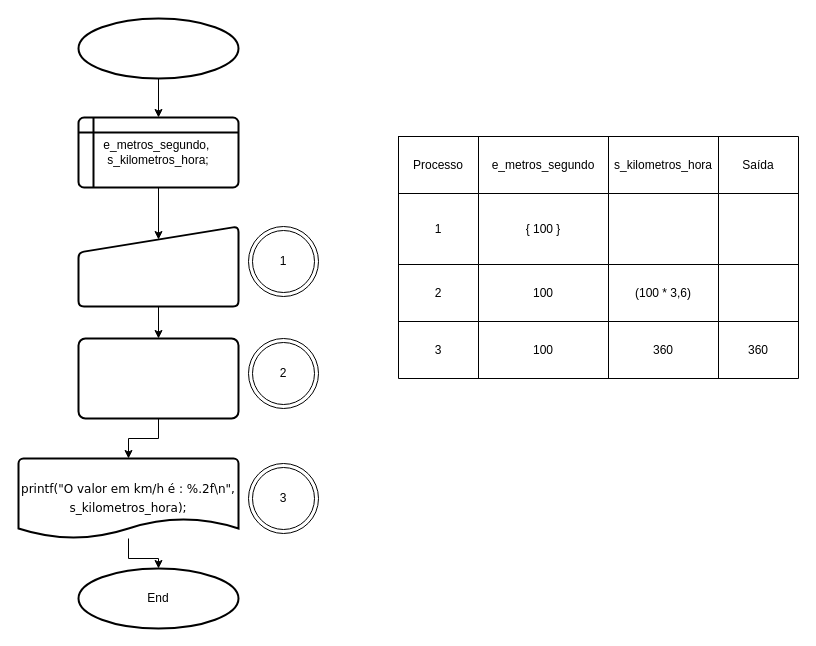
The diagram is 816 pixels wide and 646 high, and some of its shapes have lost their labels. The centre of each missing label's shape, as x and y in pixels:
s_kilometros_hora = ((e_metros_segundo * 3.6);: pixel 158 378
scanf("%f", &e_metros_segundo);: pixel 158 266
Start: pixel 158 48
